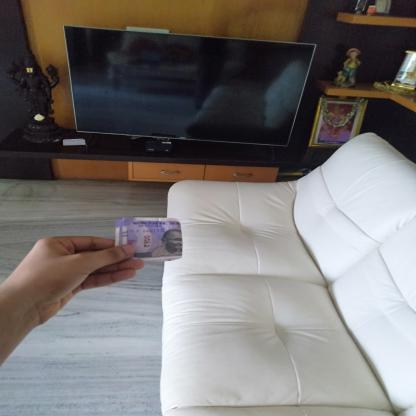New100Front: (118, 218, 186, 262)
